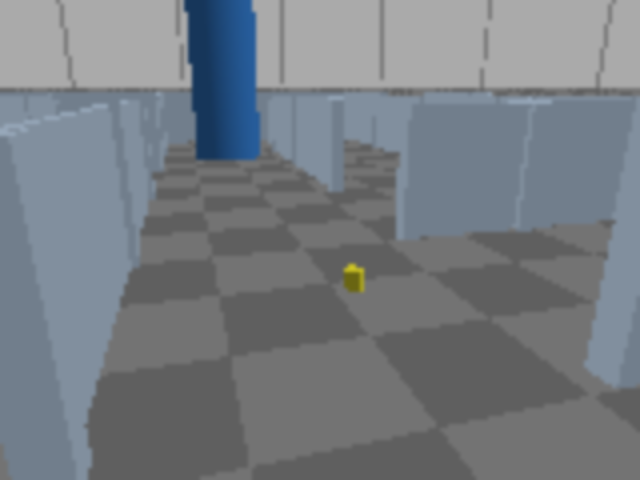puck: (343, 265, 366, 291)
